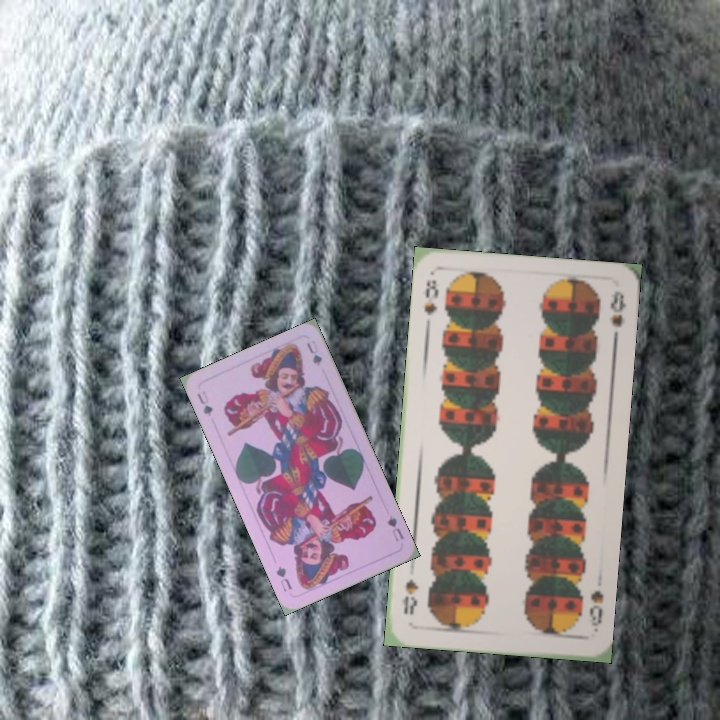GU: (383, 511, 406, 544), (193, 387, 215, 419)
S8: (585, 586, 606, 635), (420, 275, 441, 318)
